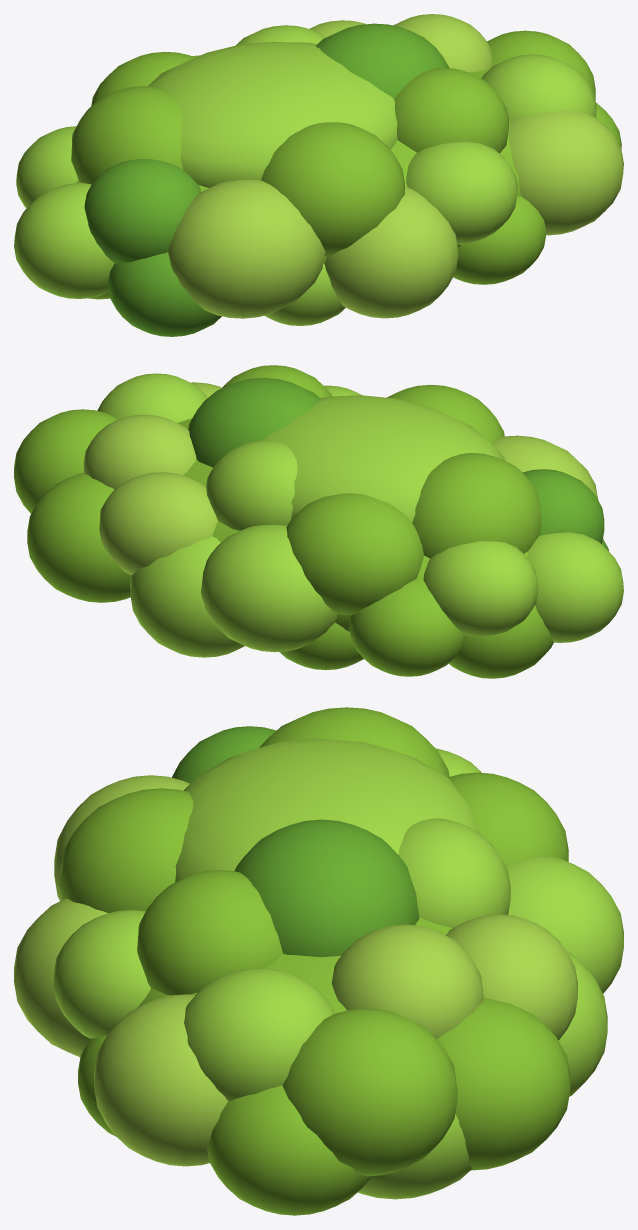
File: arbusto-bajo.glb
3 renders of one model, top to bottom at view 1: azimuth 30°, elevation 25°; view 2: azimuth 150°, elevation 25°; view 3: azimuth 270°, elevation 25°, orthographic. The views are drawn at different scales.
Parts seen in each view (by area): view 1: Hojas_verde_lima, Hojas_verde_claro, Hojas_verde_manzana, Hojas_verde_pradera; view 2: Hojas_verde_lima, Hojas_verde_manzana, Hojas_verde_claro, Hojas_verde_pradera; view 3: Hojas_verde_manzana, Hojas_verde_lima, Hojas_verde_claro, Hojas_verde_pradera.
Part boxes in pixels (bbox=[...]): Hojas_verde_lima: bbox=[14, 25, 596, 325]; Hojas_verde_claro: bbox=[168, 14, 623, 318]; Hojas_verde_manzana: bbox=[71, 30, 621, 299]; Hojas_verde_pradera: bbox=[84, 23, 449, 336]; Hojas_verde_lima: bbox=[97, 373, 623, 657]; Hojas_verde_manzana: bbox=[14, 365, 553, 678]; Hojas_verde_claro: bbox=[83, 382, 598, 574]; Hojas_verde_pradera: bbox=[188, 378, 608, 550]; Hojas_verde_manzana: bbox=[60, 707, 570, 1215]; Hojas_verde_lima: bbox=[53, 738, 623, 1199]; Hojas_verde_claro: bbox=[14, 775, 577, 1166]; Hojas_verde_pradera: bbox=[172, 726, 419, 957].
Bounding box in the file's own units: 1.99 × 0.7001 × 1.38.
